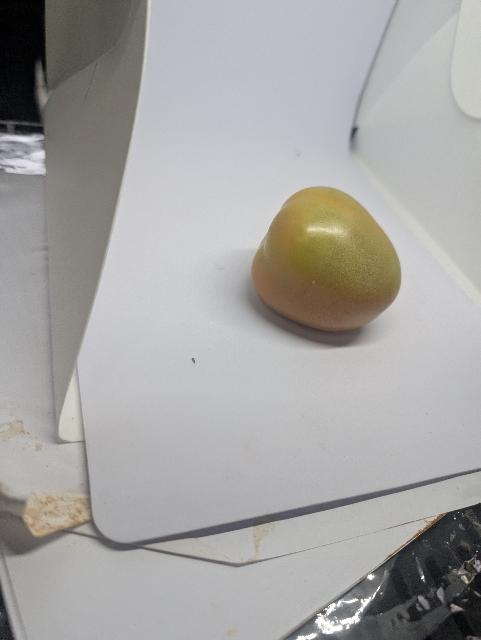breaker: (249, 182, 408, 336)
